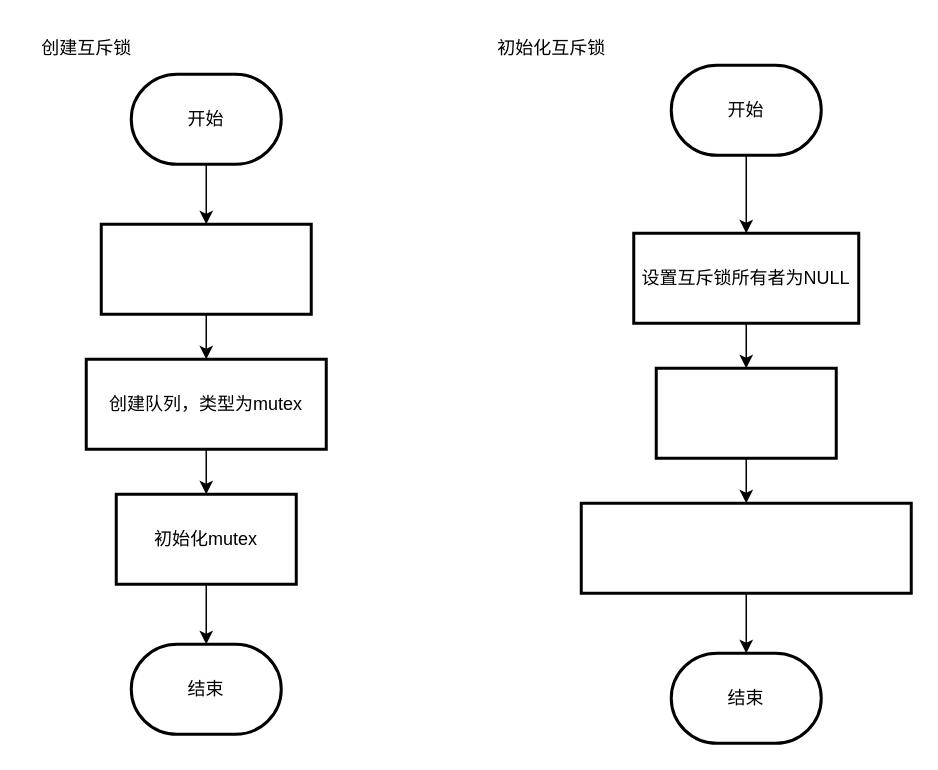
Some shapes in this 938 by 770 pixel diagram are drawn without their labels. The centre of each missing label's shape, as x and y in pixels:
往队列中发送NULL，确保mutex运行: point (745, 547)
设置长度为1，大小为0，: point (205, 268)
设置队列类型为mutex: point (745, 412)
